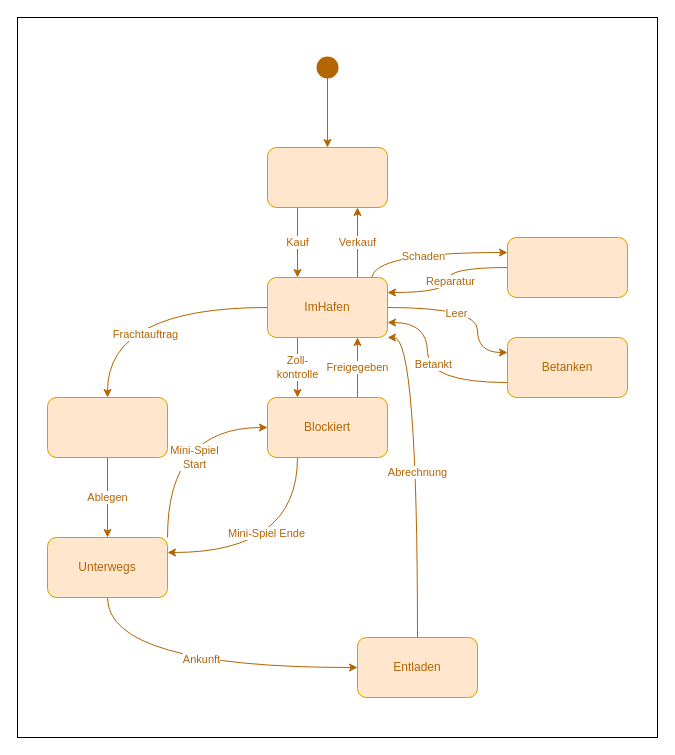
This 675x755 diagram has some shape labels left out. Here are the shapes that lost their labels. From the top down, the centre of each, then its label:
At (327,177): "AnDerBörse".
At (567,267): "Reparieren".
At (107,427): "Beladen".
